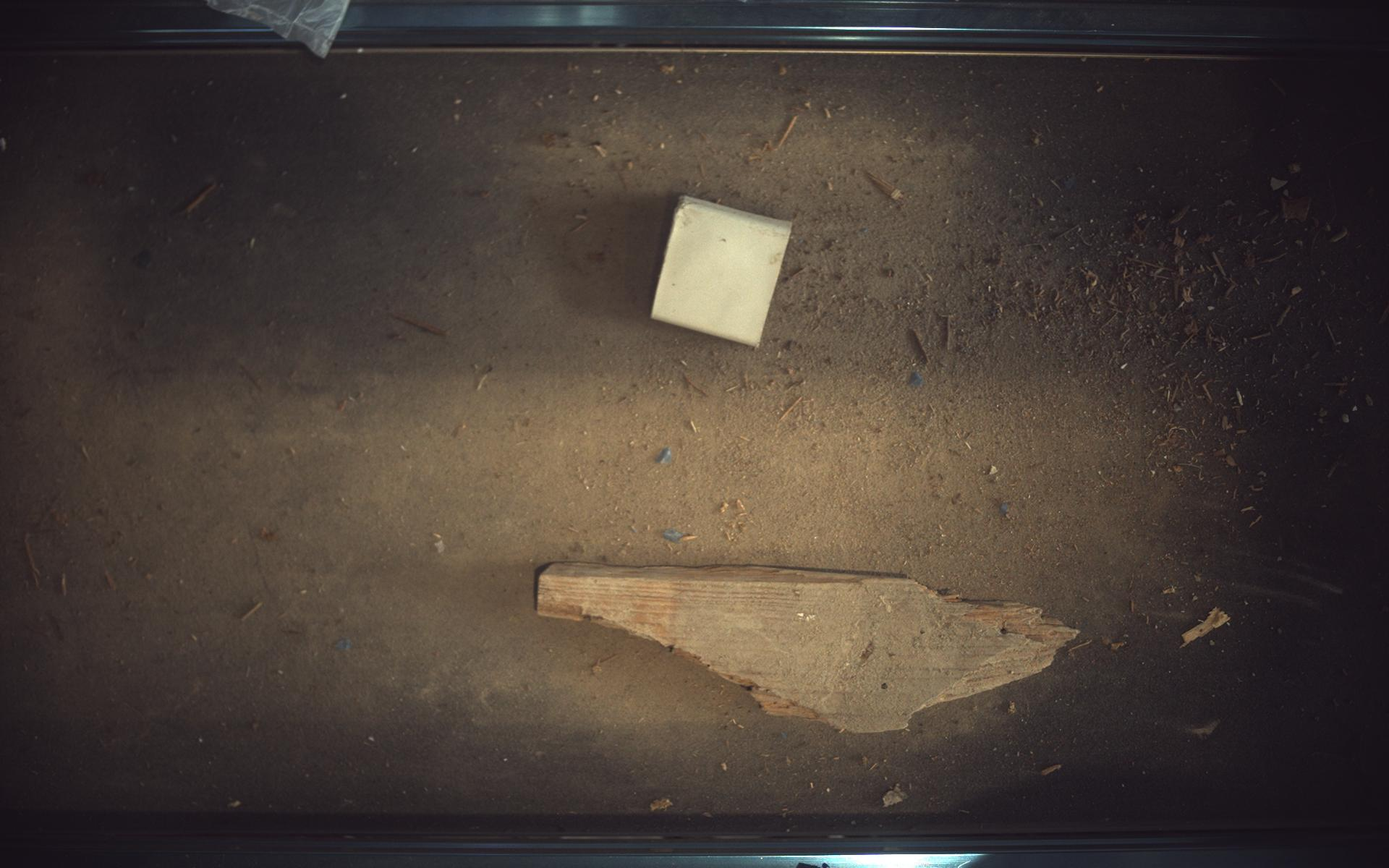wood: (537, 563, 1079, 734), (653, 195, 793, 346)
